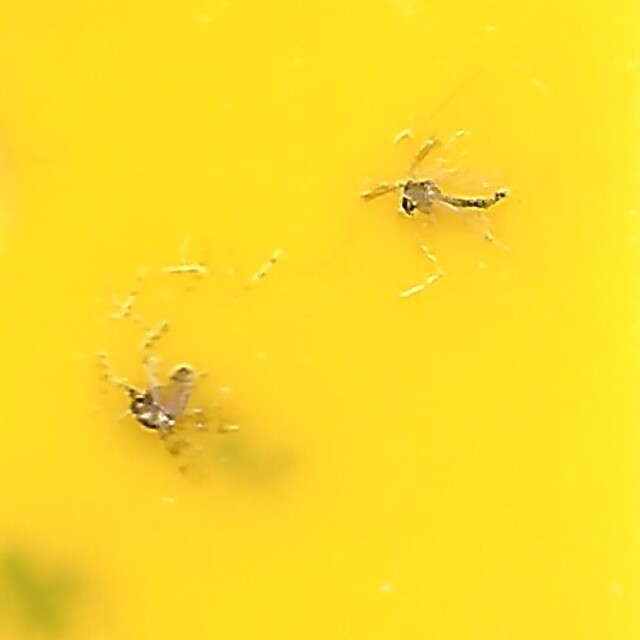Nematocera: (129, 359, 218, 499), (386, 141, 511, 224)
